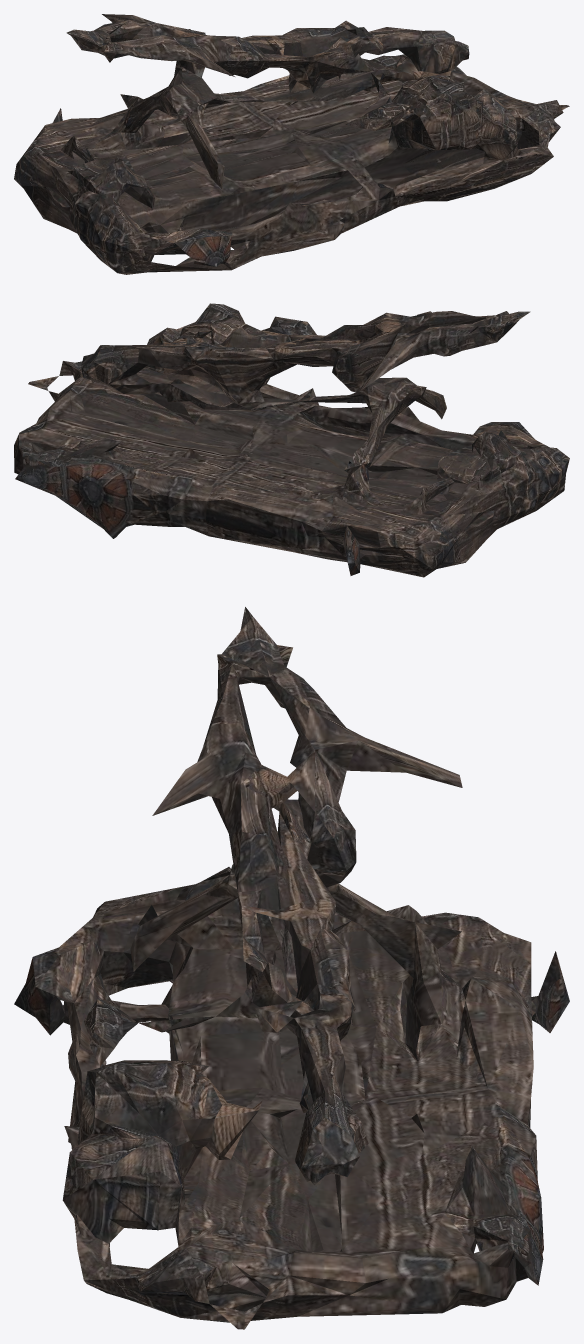
File: world-ballista.glb
3 renders of one model, top to bottom at view 1: azimuth 30°, elevation 25°; view 2: azimuth 150°, elevation 25°; view 3: azimuth 270°, elevation 25°, orthographic. The views are drawn at different scales.
Parts seen in each view (by area): view 1: output_unwrapped; view 2: output_unwrapped; view 3: output_unwrapped.
Part boxes in pixels (x1,y1,x2,y2): output_unwrapped: (14,14,569,274); output_unwrapped: (14,303,569,577); output_unwrapped: (14,607,569,1329).
Size of the model in its own units: 3.5 by 1.63 by 2.04.
Materials: 1 (1 with a texture image).
